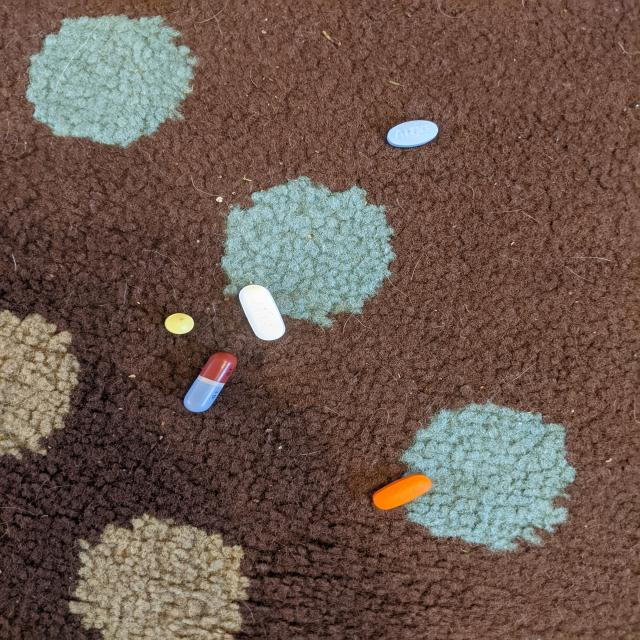non-organic waste: (182, 350, 238, 413), (237, 284, 287, 342), (371, 472, 434, 510), (386, 120, 439, 148), (164, 312, 195, 335)
